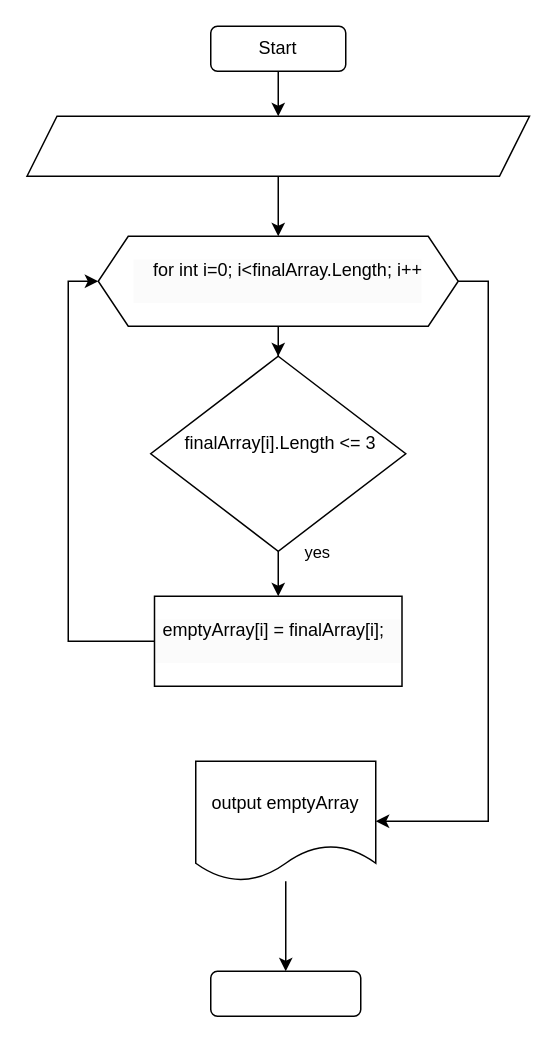
This 555x1043 diagram has some shape labels left out. The shapes that lost their labels are listed below. From the top down, each one's box as (x1, y1, x2, y2) in pixels, then its label:
(26, 115, 530, 176): finalArray = ['1234", "1567", "-2", "computer science"] emptyArray = []
(209, 970, 361, 1016): End
